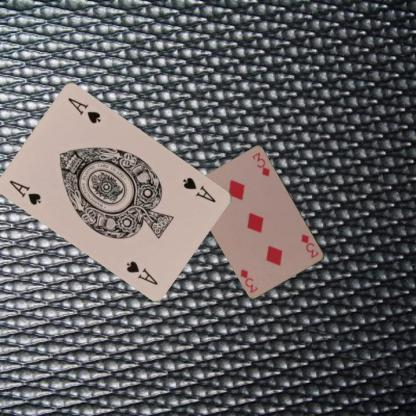3d: (298, 232, 320, 259)
As: (180, 174, 218, 204), (6, 178, 44, 206)
